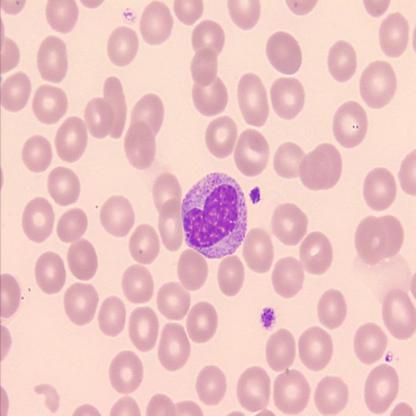Metamyelocyte: (177, 169, 251, 262)
